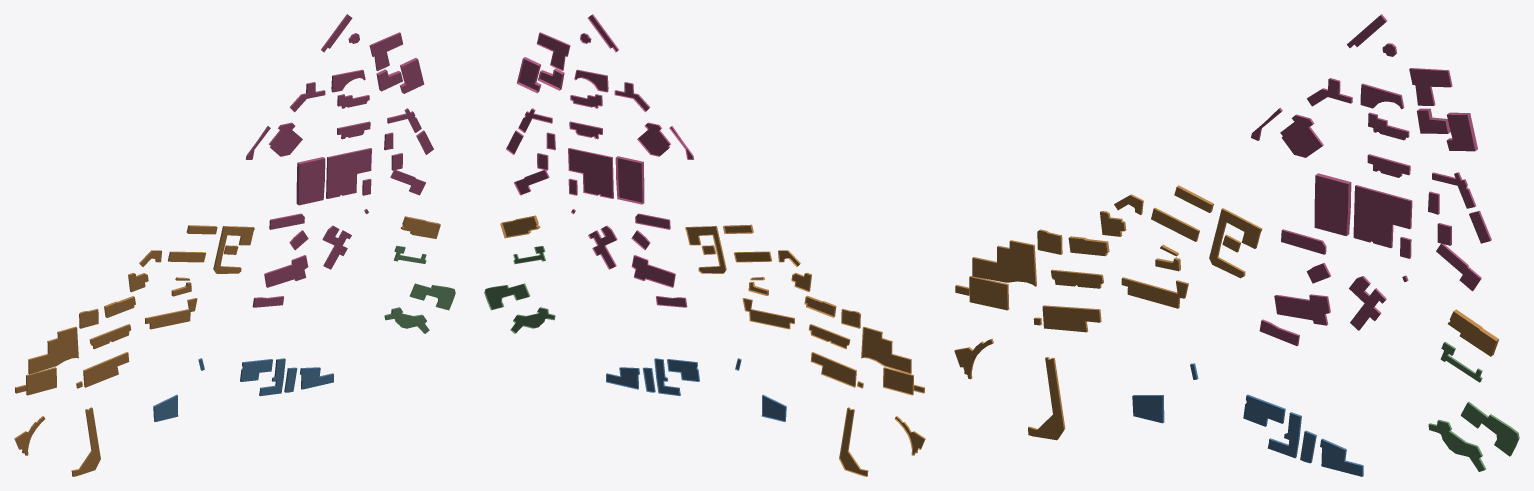
Rendered from buildings_k24.obj.
3 views of the same model, side by side, from view 1: azimuth 30°, elevation 25°; view 2: azimuth 150°, elevation 25°; view 3: azimuth 330°, elevation 25° (orthographic). The views are drawn at different scales.
Parts seen in each view (by area): view 1: roof1, roof2, roof4, zone1, zone2, roof3; view 2: roof1, roof2, zone1, zone2, roof4, roof3, zone4, zone3; view 3: roof1, roof2, roof4, zone1, zone2, roof3, zone4.
Boxes of the visible parts, x1=… form: roof1: x1=247, y1=15, x2=433, y2=307; roof2: x1=15, y1=218, x2=440, y2=476; roof4: x1=154, y1=359, x2=333, y2=421; zone1: x1=246, y1=14, x2=425, y2=307; zone2: x1=14, y1=216, x2=440, y2=476; roof3: x1=385, y1=246, x2=455, y2=333; roof1: x1=507, y1=15, x2=692, y2=306; roof2: x1=503, y1=217, x2=924, y2=475; zone1: x1=506, y1=14, x2=693, y2=307; zone2: x1=500, y1=215, x2=925, y2=476; roof4: x1=607, y1=359, x2=785, y2=420; roof3: x1=485, y1=246, x2=554, y2=332; zone4: x1=606, y1=358, x2=786, y2=421; zone3: x1=484, y1=246, x2=555, y2=333; roof1: x1=1251, y1=15, x2=1490, y2=345; roof2: x1=954, y1=187, x2=1496, y2=440; roof4: x1=1132, y1=364, x2=1362, y2=476; zone1: x1=1258, y1=14, x2=1491, y2=345; zone2: x1=955, y1=185, x2=1499, y2=439; roof3: x1=1428, y1=343, x2=1517, y2=471; zone4: x1=1133, y1=363, x2=1363, y2=476.
Bounding box in the file's own units: 981 × 841 × 8.5.
